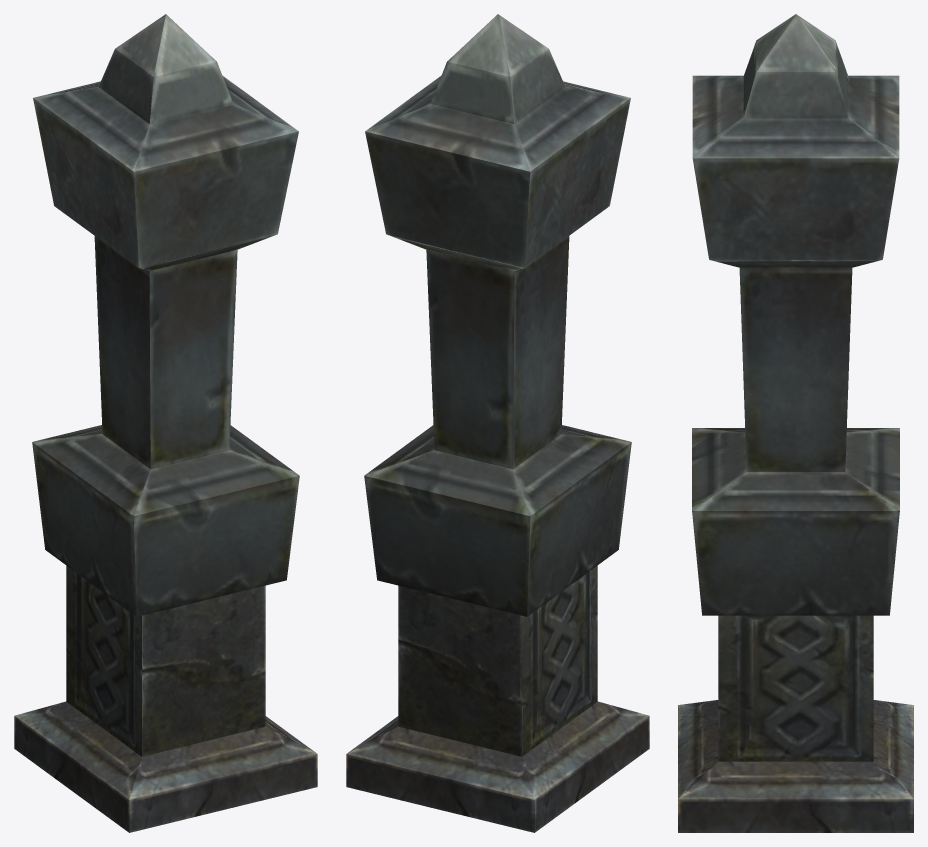
Rendered from F_fushou006.fbx.
The picture shows the model from 3 angles, left to right: view 1: azimuth 30°, elevation 25°; view 2: azimuth 150°, elevation 25°; view 3: azimuth 270°, elevation 25°; orthographic projection. The views are drawn at different scales.
Parts seen in each view (by area): view 1: F_fushou006; view 2: F_fushou006; view 3: F_fushou006.
Boxes of the visible parts, x1=… form: F_fushou006: x1=14, y1=14, x2=317, y2=832; F_fushou006: x1=346, y1=14, x2=649, y2=832; F_fushou006: x1=678, y1=14, x2=913, y2=832.
Size of the model in its own units: 72.22 by 276 by 76.43.
